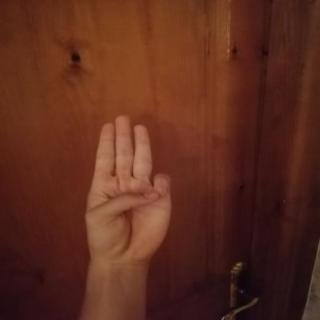THA: (71, 106, 184, 271)
